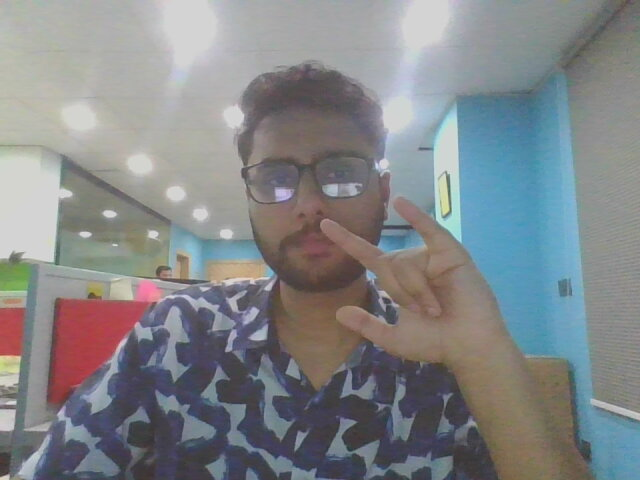iloveyou: (313, 194, 540, 391)
